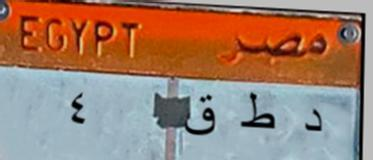4: (66, 86, 92, 134)
Taa: (236, 88, 276, 141)
daal: (294, 97, 328, 144)
qaaf: (183, 95, 218, 141)
